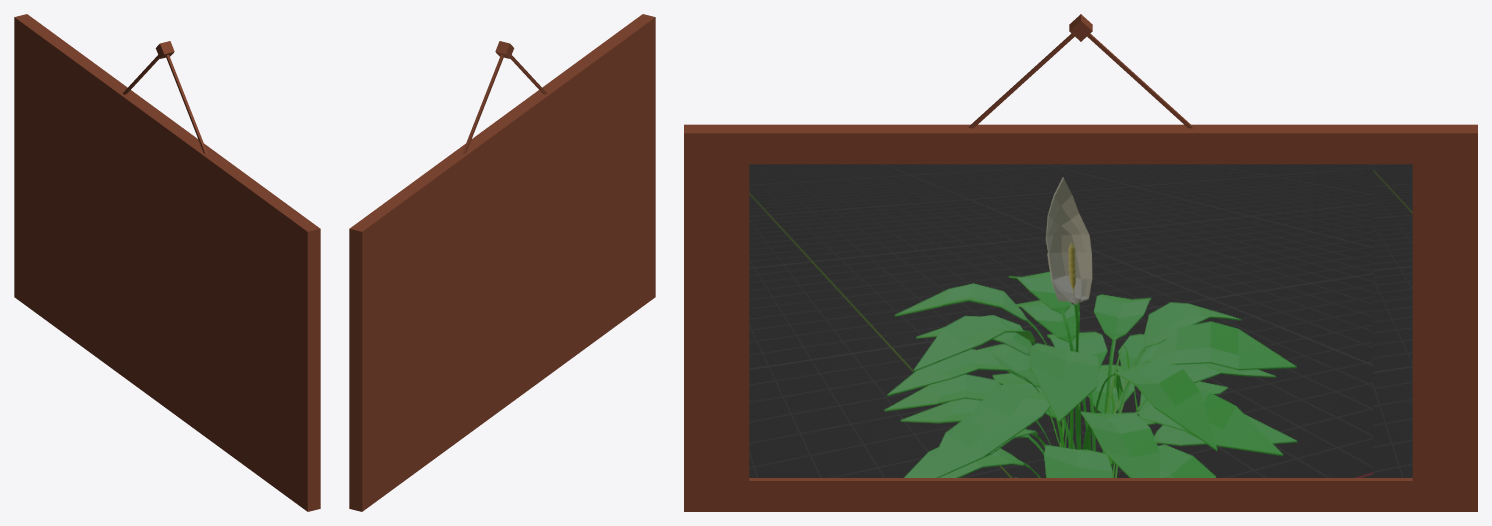
Rendered from picture frame lily.fbx.
3 renders of one model, left to right at view 1: azimuth 30°, elevation 25°; view 2: azimuth 150°, elevation 25°; view 3: azimuth 270°, elevation 25°, orthographic. The views are drawn at different scales.
Parts seen in each view (by area): view 1: Cube; view 2: Cube; view 3: Cube.
Boxes of the visible parts, bbox=[...] form: Cube: bbox=[14, 14, 320, 511]; Cube: bbox=[349, 14, 655, 511]; Cube: bbox=[684, 14, 1477, 511].
Size of the model in its own units: 15.39 by 380 by 560.
